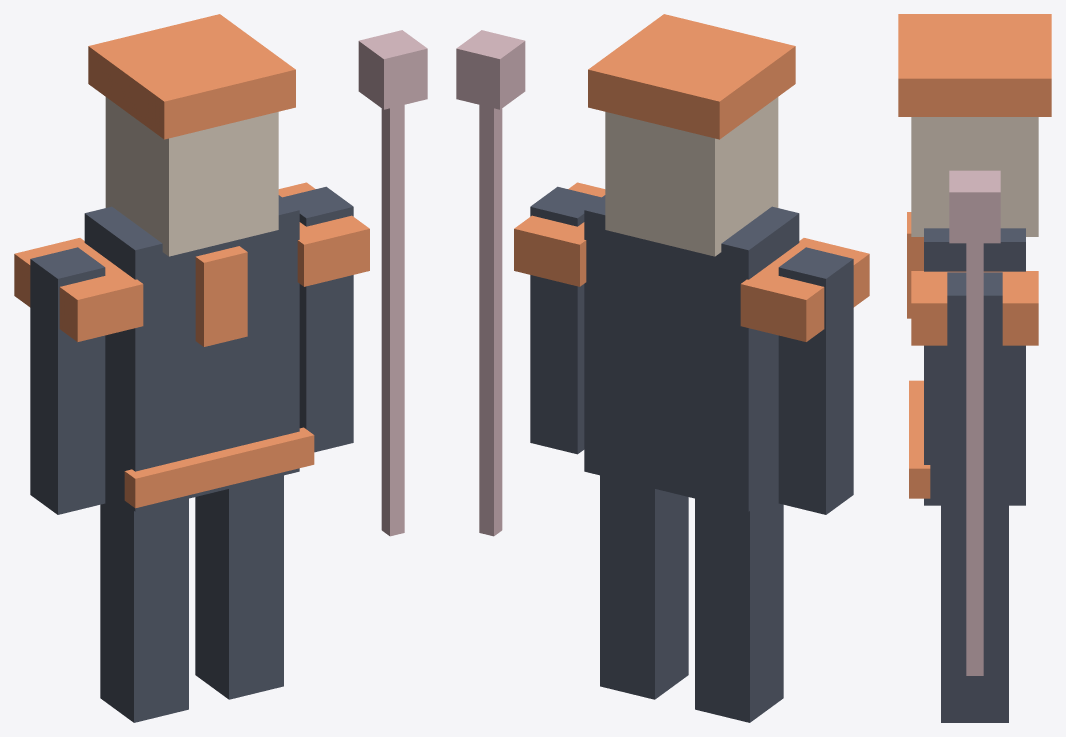
The model's file is 12_bex_nullborne_custodian_near_cargo.glb.
3 renders of one model, left to right at view 1: azimuth 30°, elevation 25°; view 2: azimuth 150°, elevation 25°; view 3: azimuth 270°, elevation 25°, orthographic.
Visible parts, largest first — view 1: Bex Nullborne, Custodian near Cargo; view 2: Bex Nullborne, Custodian near Cargo; view 3: Bex Nullborne, Custodian near Cargo.
Boxes of the visible parts, x1,y1,x2,y2 form: Bex Nullborne, Custodian near Cargo: [14, 14, 427, 722]; Bex Nullborne, Custodian near Cargo: [456, 14, 869, 722]; Bex Nullborne, Custodian near Cargo: [898, 14, 1051, 722].
Bounding box in the file's own units: 0.9769 × 1.6 × 0.3465.
